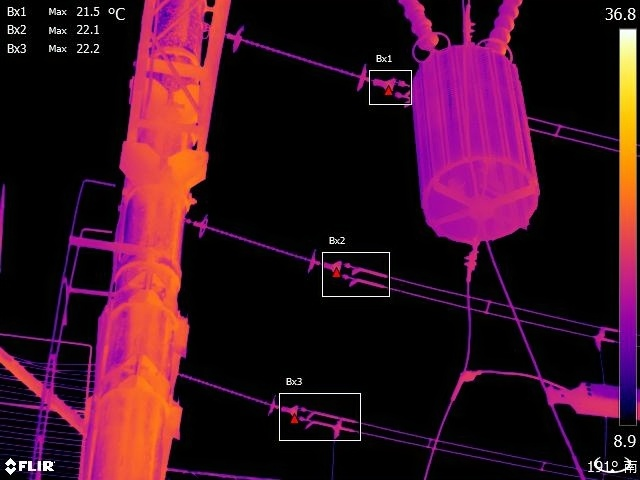clamp: (451, 357, 481, 391), (327, 412, 349, 439)
insulator: (229, 13, 375, 92), (197, 210, 321, 279), (176, 363, 277, 420), (389, 1, 458, 60), (478, 1, 532, 55)
switch: (535, 369, 640, 424)
wave trap: (400, 33, 549, 252)
